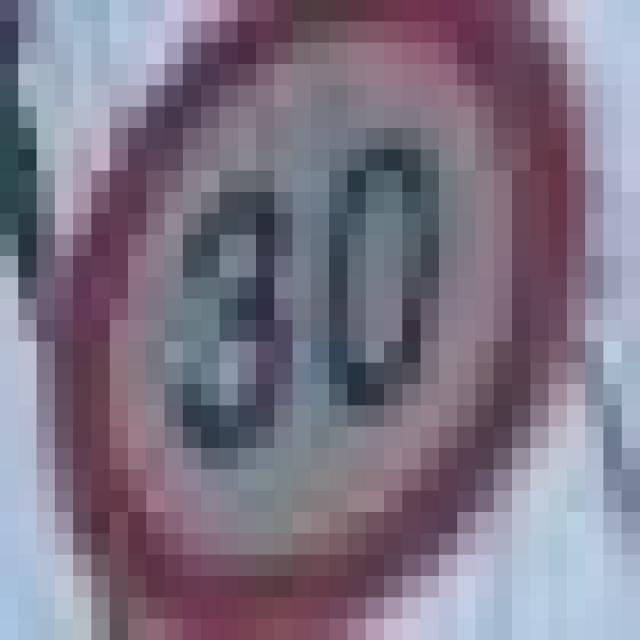traffic_sign: (36, 0, 548, 597)
